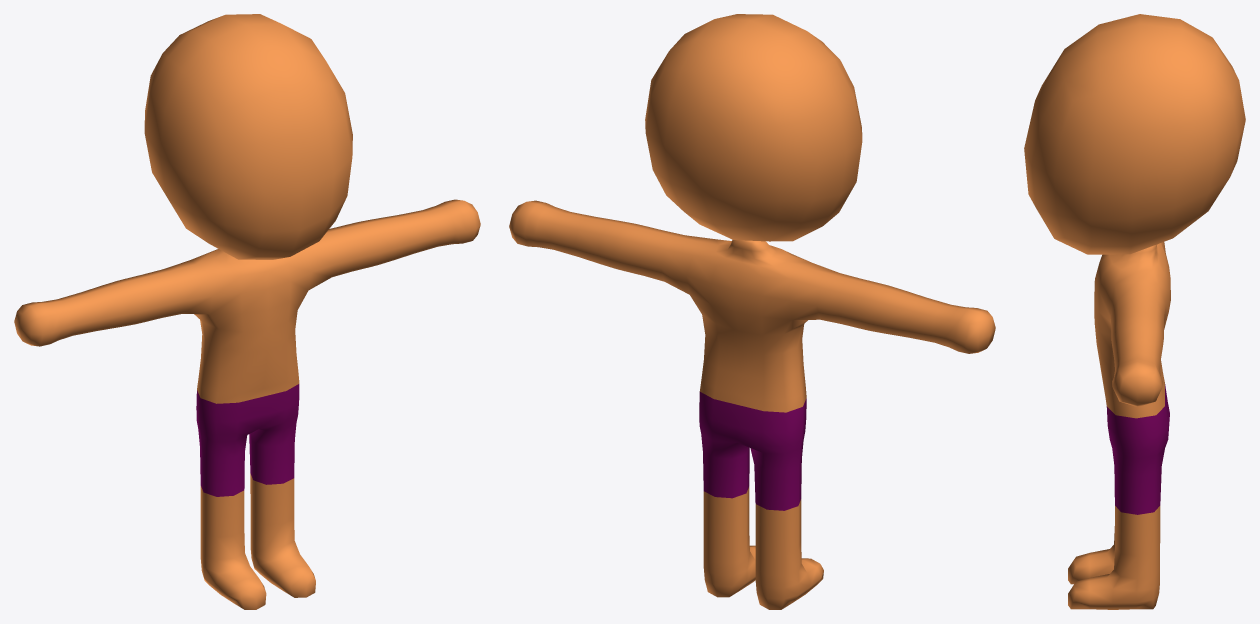
The model's file is Purple Pant Character.fbx.
The picture shows the model from 3 angles, left to right: view 1: azimuth 30°, elevation 25°; view 2: azimuth 150°, elevation 25°; view 3: azimuth 270°, elevation 25°; orthographic projection. The views are drawn at different scales.
Visible parts, largest first — view 1: Cube.001; view 2: Cube.001; view 3: Cube.001.
Boxes of the visible parts, bbox=[...] form: Cube.001: bbox=[14, 14, 480, 609]; Cube.001: bbox=[509, 14, 995, 609]; Cube.001: bbox=[1024, 14, 1245, 609].
Bounding box in the file's own units: 282 × 328 × 116.
